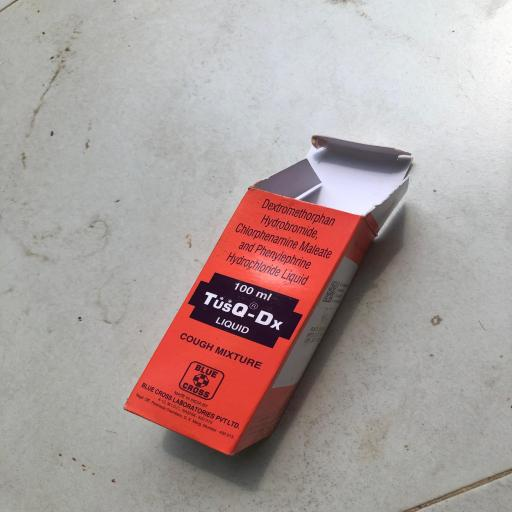waste: (117, 128, 430, 463)
